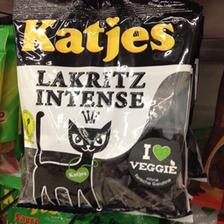Suessigkeit: (13, 0, 196, 220)
